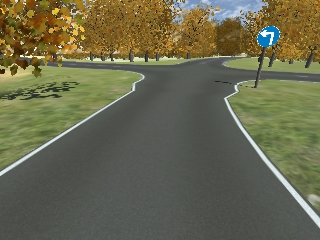left: (256, 25, 280, 49)
